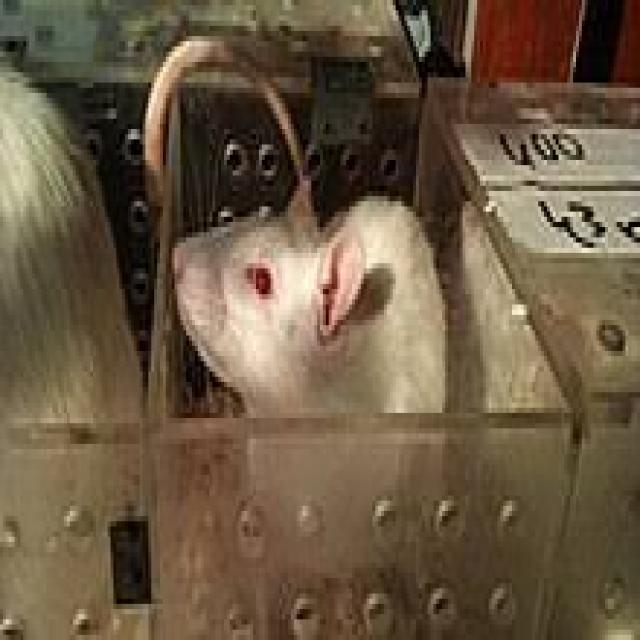Rat: (131, 38, 453, 407)
